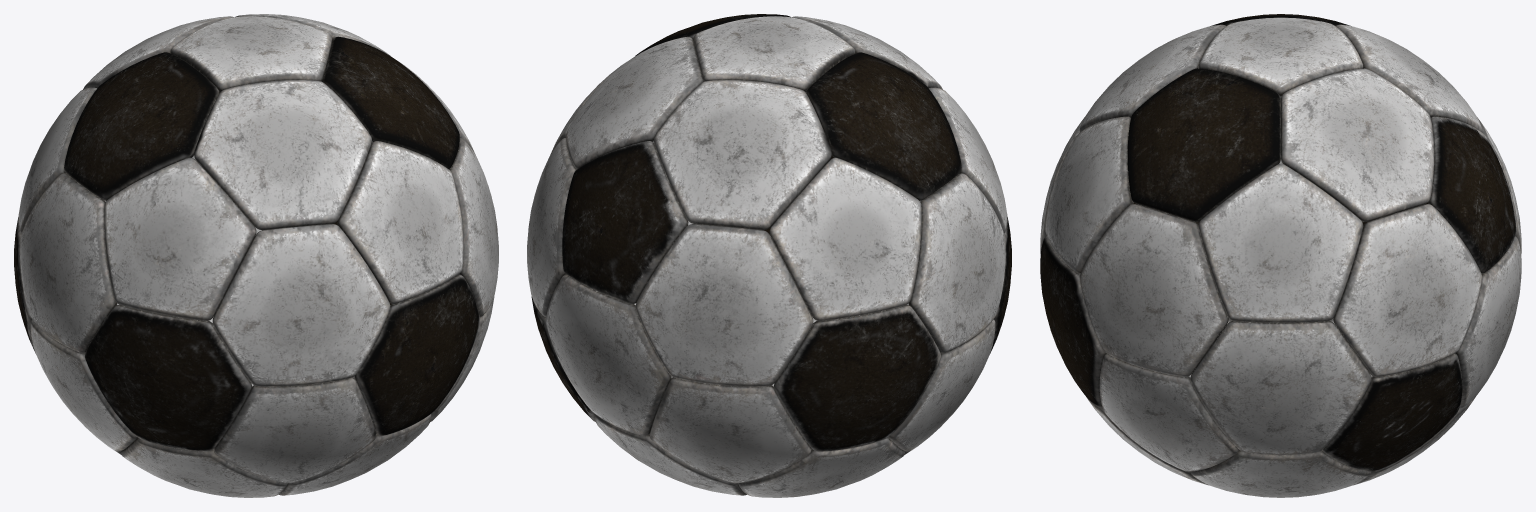
The model's file is soccer_ball.obj.
3 views of the same model, side by side, from view 1: azimuth 30°, elevation 25°; view 2: azimuth 150°, elevation 25°; view 3: azimuth 270°, elevation 25° (orthographic).
Parts seen in each view (by area): view 1: ball; view 2: ball; view 3: ball.
Part boxes in pixels (left/top/right/bottom): ball: left=14, top=14, right=498, bottom=497; ball: left=527, top=14, right=1011, bottom=497; ball: left=1040, top=14, right=1521, bottom=497.
Size of the model in its own units: 8.52 by 8.53 by 8.47.
